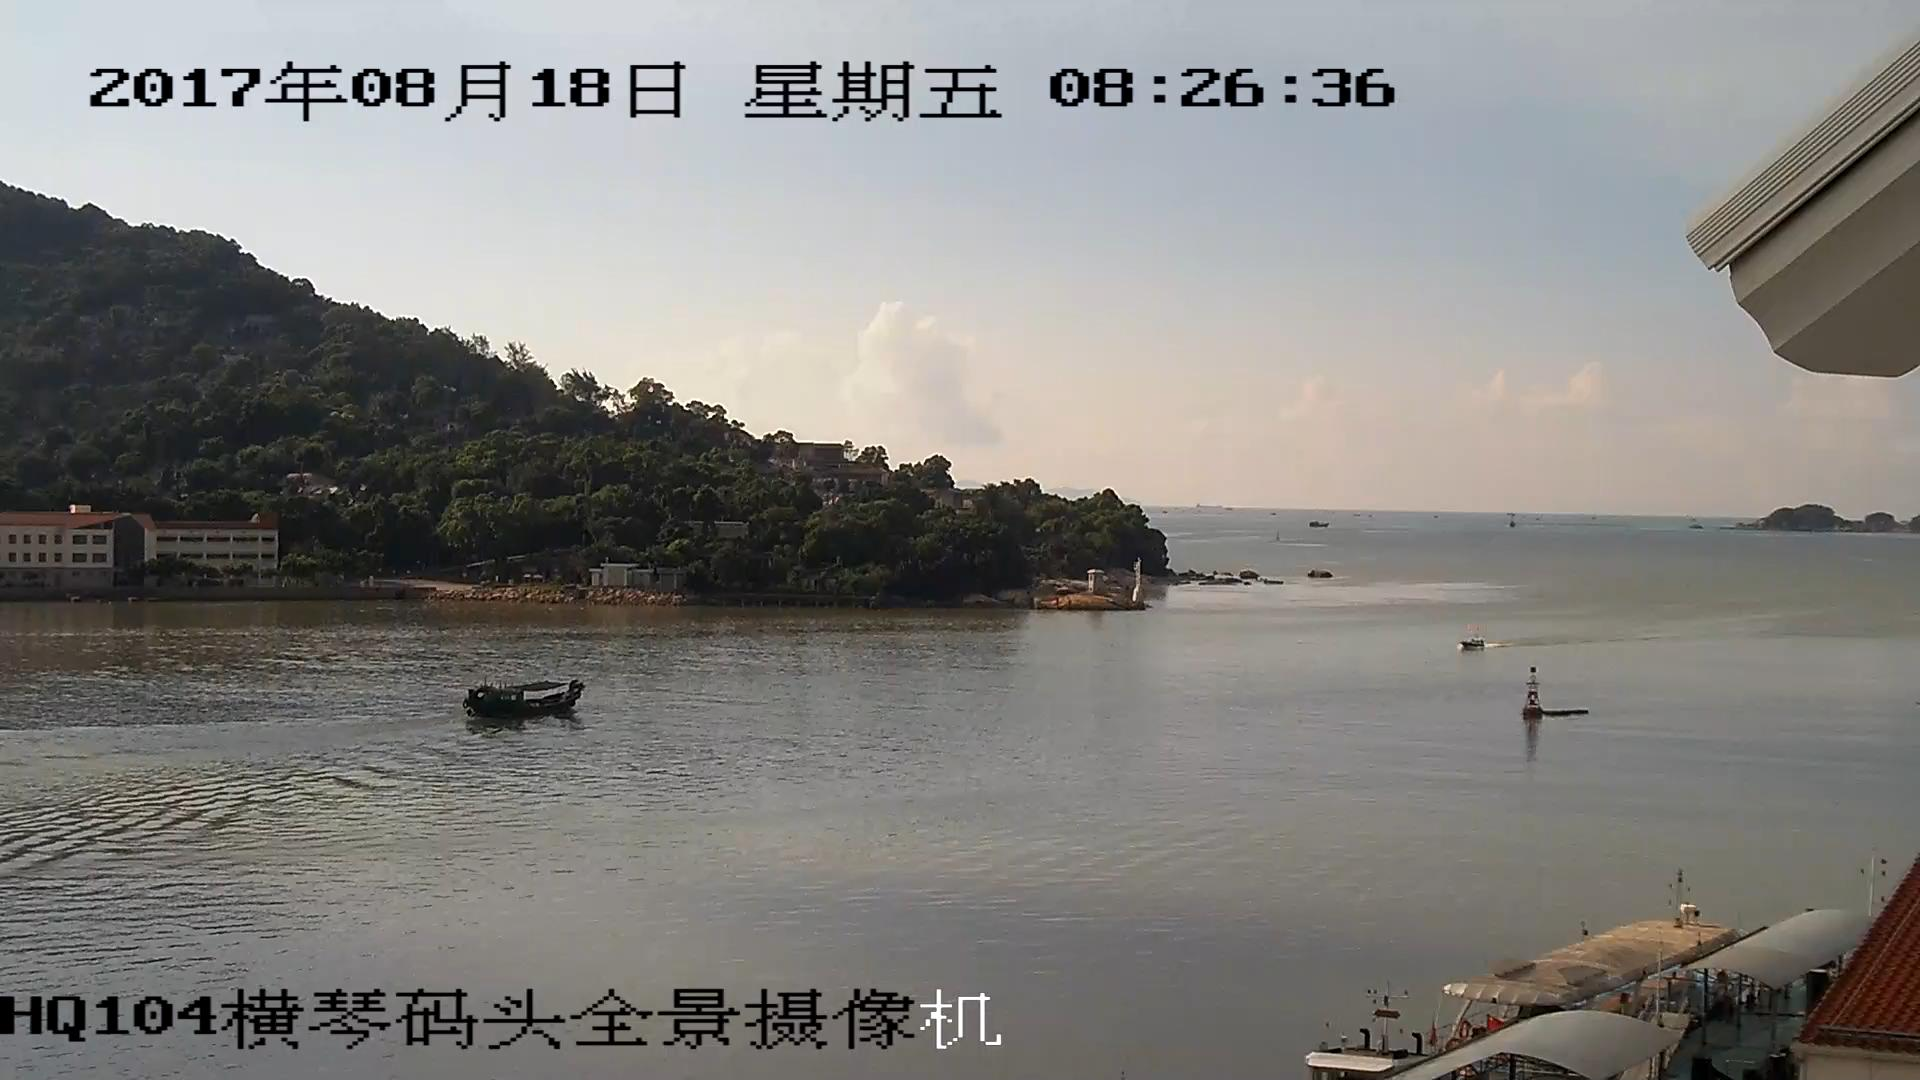fishing boat: (463, 685, 582, 720)
